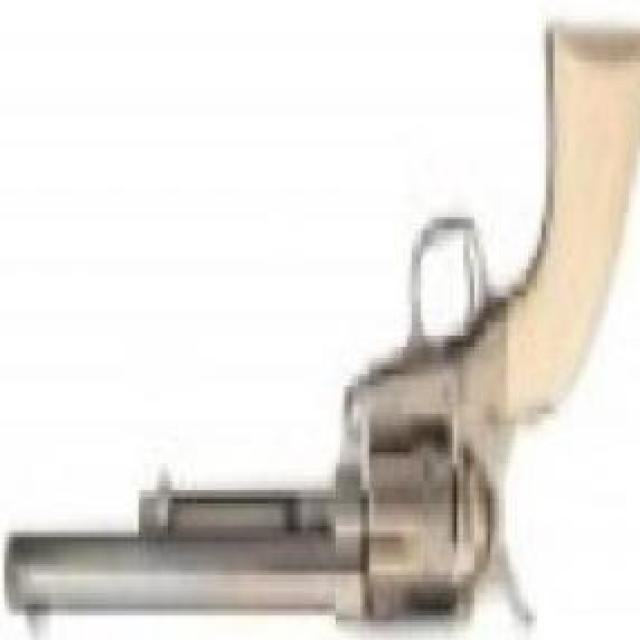pistol: (9, 34, 640, 640)
